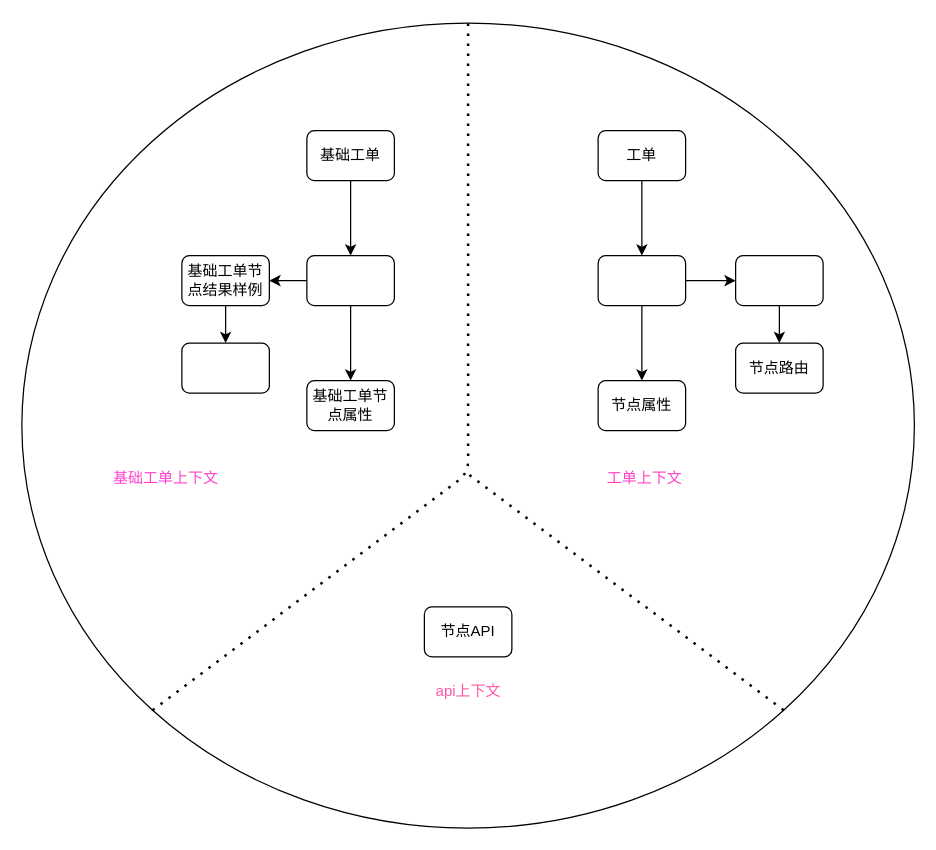
The diagram is 936 pixels wide and 850 high, and some of its shapes have lost their labels. The shapes that lost their labels are listed below. From the top down, each one's centre as x and y in pixels, then its label:
(350,280): 基础工单节点
(641,280): 节点
(778,280): 节点结果样例
(225,367): 基础工单节点路由
